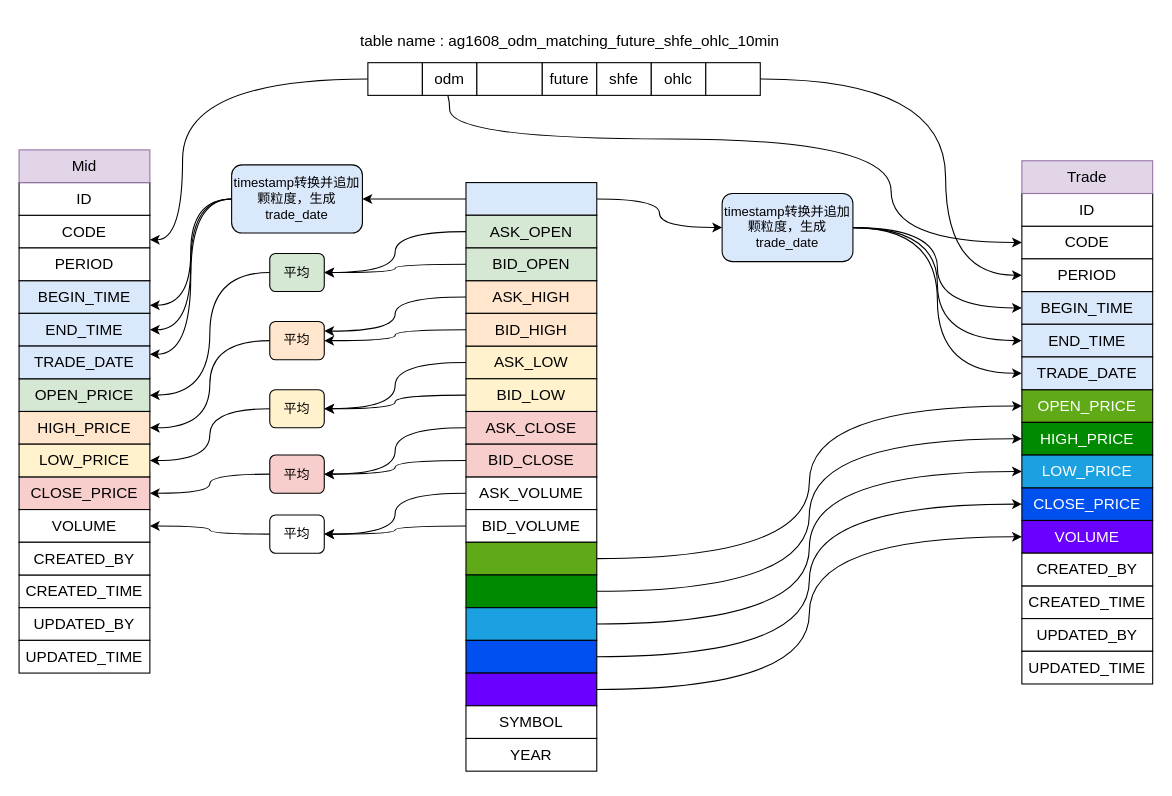
The diagram is 1172 pixels wide and 796 high, and some of its shapes have lost their labels. The centre of each missing label's shape, as x and y in pixels:
"10min" belongs at point (732, 78).
"ag1608" belongs at point (394, 78).
"matching" belongs at point (509, 78).
"TRADE_CLOSE" belongs at point (531, 656).
"TRADE_HIGH" belongs at point (531, 591).
"TRADE_LOW" belongs at point (531, 623).
"TRADE_OPEN" belongs at point (531, 558).
"TRADE_VOLUME" belongs at point (531, 689).
"TS" belongs at point (531, 198).
